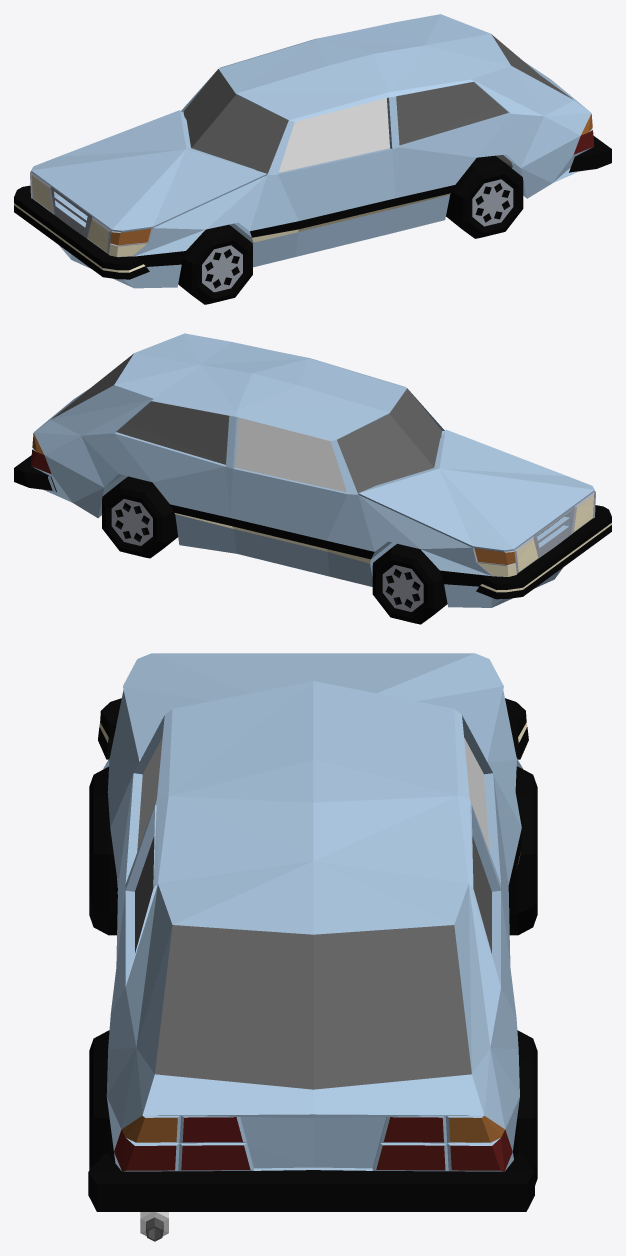
Rendered from Car_3.fbx.
3 renders of one model, top to bottom at view 1: azimuth 30°, elevation 25°; view 2: azimuth 150°, elevation 25°; view 3: azimuth 270°, elevation 25°, orthographic. The views are drawn at different scales.
Visible parts, largest first — view 1: car body.002, front wheels.009, front wheels.011; view 2: car body.002, front wheels.009, front wheels.011; view 3: car body.002, front wheels.011, front wheels.009.
Part boxes in pixels (x1,y1,x2,y2): car body.002: [14, 14, 611, 288]; front wheels.009: [446, 155, 523, 238]; front wheels.011: [178, 224, 252, 304]; car body.002: [14, 333, 611, 607]; front wheels.009: [102, 476, 178, 558]; front wheels.011: [372, 543, 447, 624]; car body.002: [88, 653, 534, 1211]; front wheels.011: [89, 766, 537, 935]; front wheels.009: [89, 1030, 537, 1185].
Size of the model in its own units: 11289 by 3419 by 4353.
